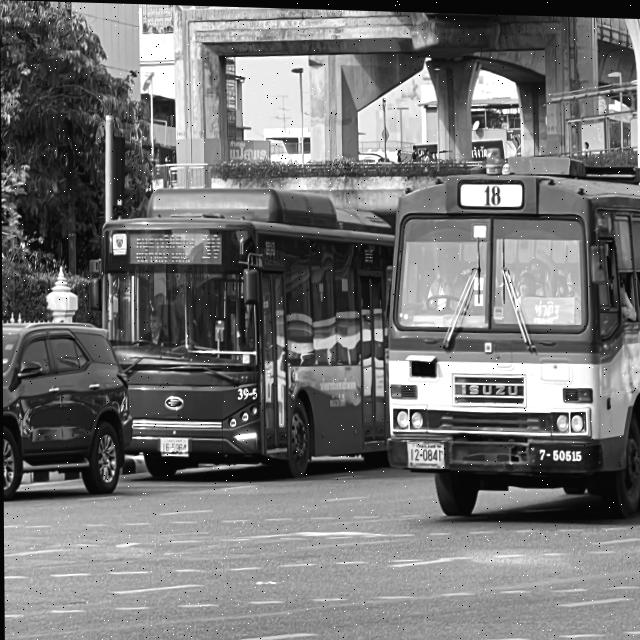BMTA-bus: (386, 151, 640, 521)
Bus-Line-Number: (465, 179, 522, 206), (198, 225, 225, 266)
Destination-Sign-Normal: (128, 231, 198, 268), (518, 293, 578, 323)
TSB-Bus: (90, 182, 395, 483)
